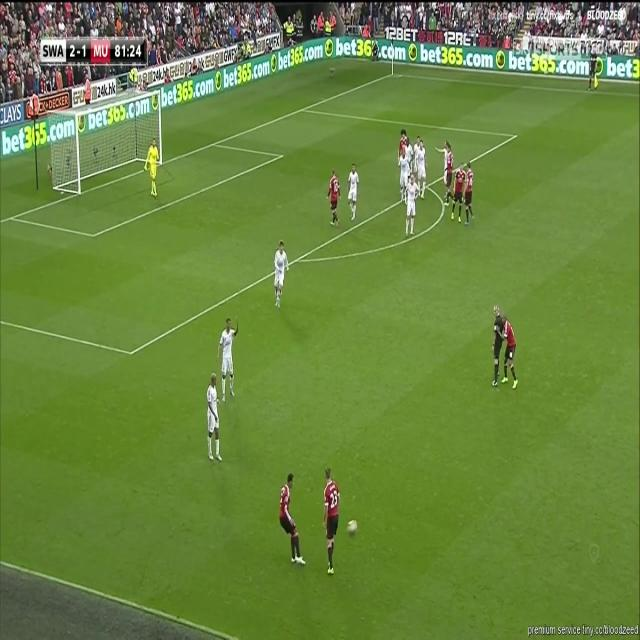Ball: (346, 518, 360, 538)
Goalkeeper: (143, 136, 160, 202)
Player: (278, 469, 306, 569), (322, 465, 342, 579), (217, 314, 241, 404), (205, 372, 221, 468), (502, 314, 520, 392), (273, 237, 290, 311), (404, 173, 422, 242), (325, 169, 343, 230), (450, 162, 467, 226), (395, 149, 411, 205), (348, 162, 362, 224), (416, 135, 429, 200), (465, 157, 476, 228), (445, 140, 454, 204)
Referee: (491, 302, 504, 391), (586, 51, 601, 94)
